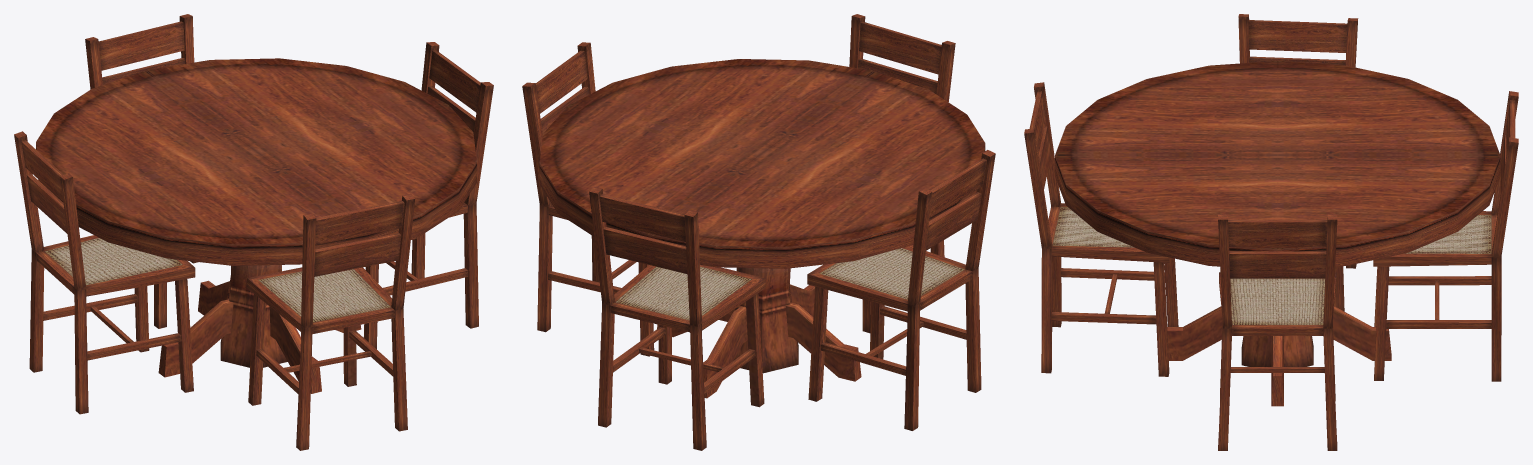
Rendered from table_chairs.fbx.
3 views of the same model, side by side, from view 1: azimuth 30°, elevation 25°; view 2: azimuth 150°, elevation 25°; view 3: azimuth 270°, elevation 25° (orthographic).
Parts seen in each view (by area): view 1: mesh_1, mesh_0; view 2: mesh_1, mesh_0; view 3: mesh_1, mesh_0.
Part boxes in pixels (<box>): mesh_1: <box>36,58,476,393</box>; mesh_0: <box>14,14,493,450</box>; mesh_1: <box>539,59,985,398</box>; mesh_0: <box>522,14,995,450</box>; mesh_1: <box>1055,61,1500,406</box>; mesh_0: <box>1024,14,1518,450</box>.
Size of the model in its own units: 175 by 95.5 by 178.
Materials: 2 (2 with a texture image).
